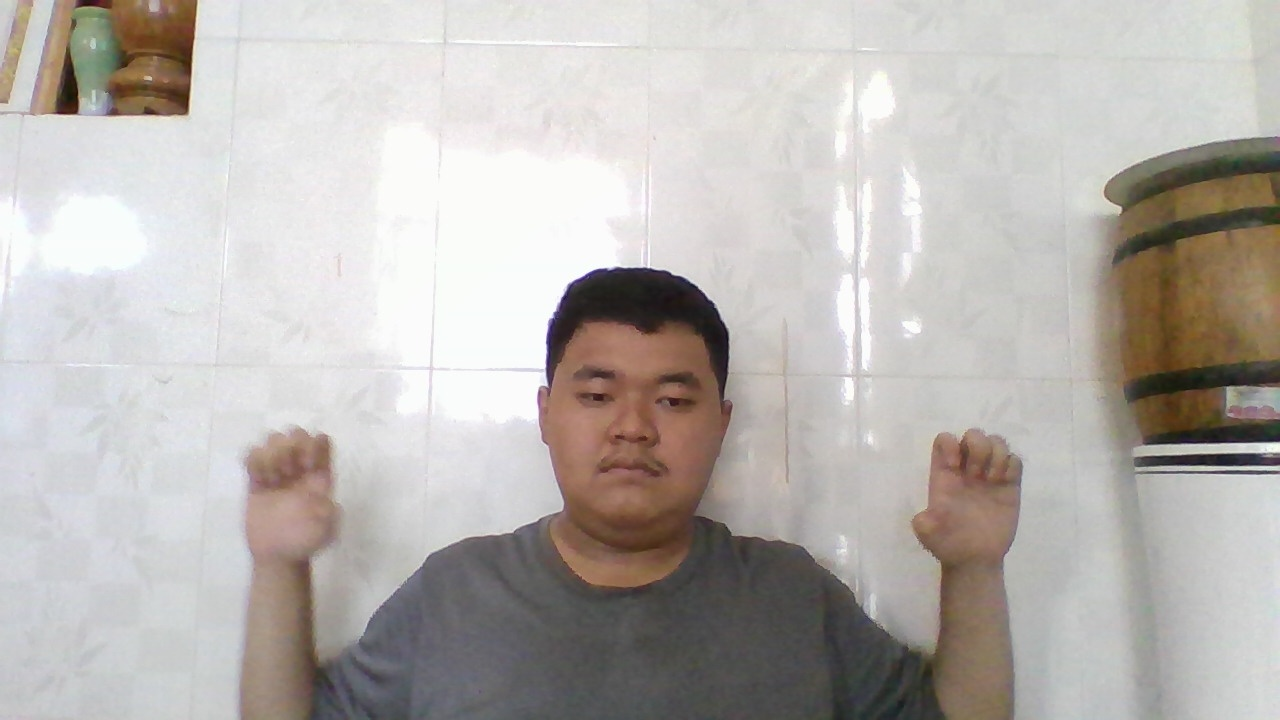E: (905, 416, 1035, 577), (237, 416, 347, 573)
